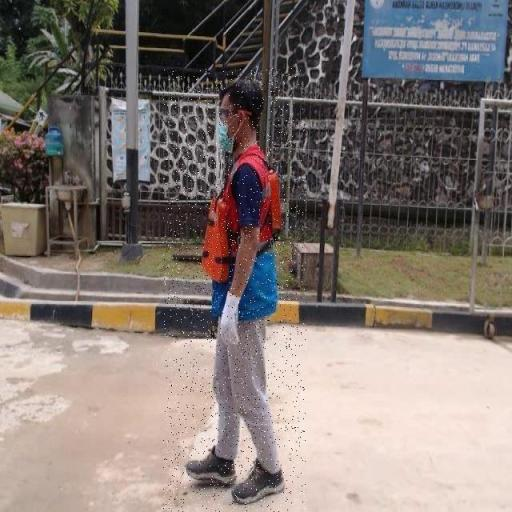Boots: (228, 458, 287, 508), (182, 446, 238, 488)
Person: (164, 66, 306, 512)
